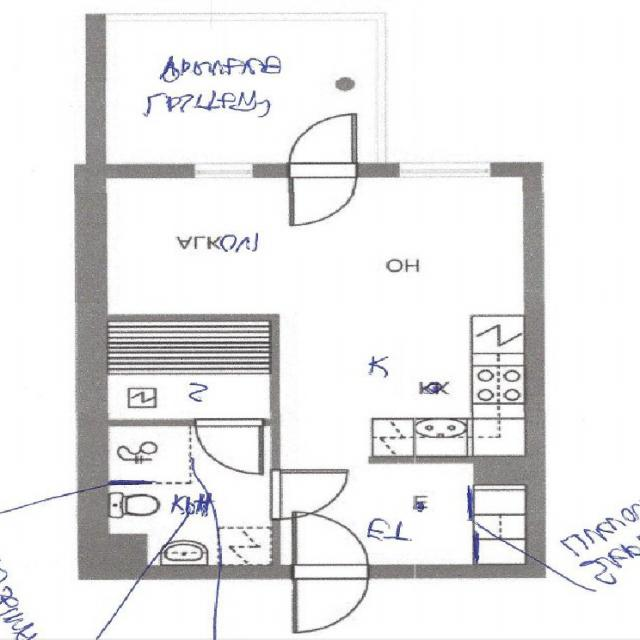door: (294, 564, 368, 631), (294, 512, 368, 577), (290, 163, 357, 226), (290, 115, 357, 177), (272, 470, 346, 519), (196, 419, 263, 473)
